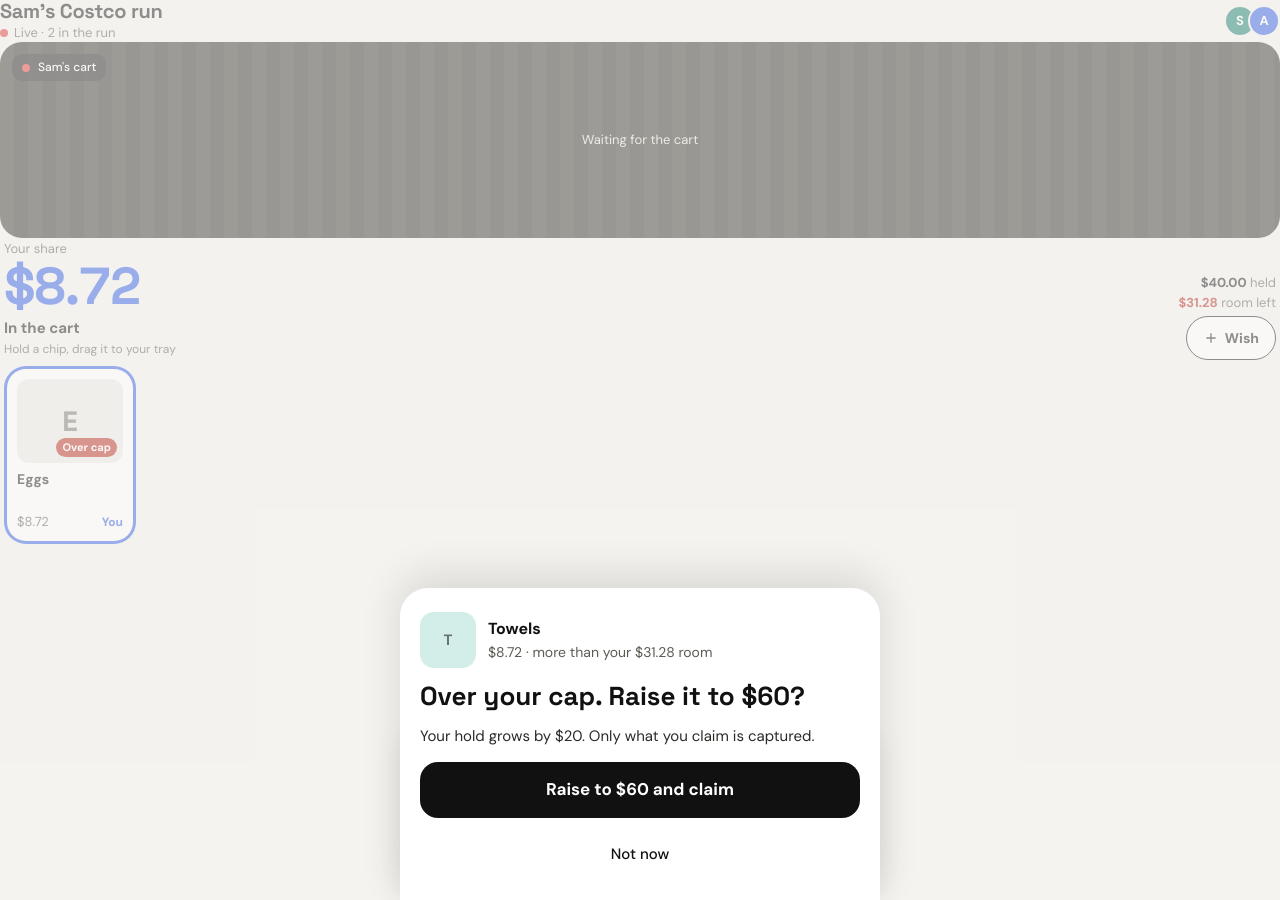
Not now closes the over-cap sheet without raising
Click the button "Not now" at (640, 854), box x1=420 y1=832 x2=860 y2=876
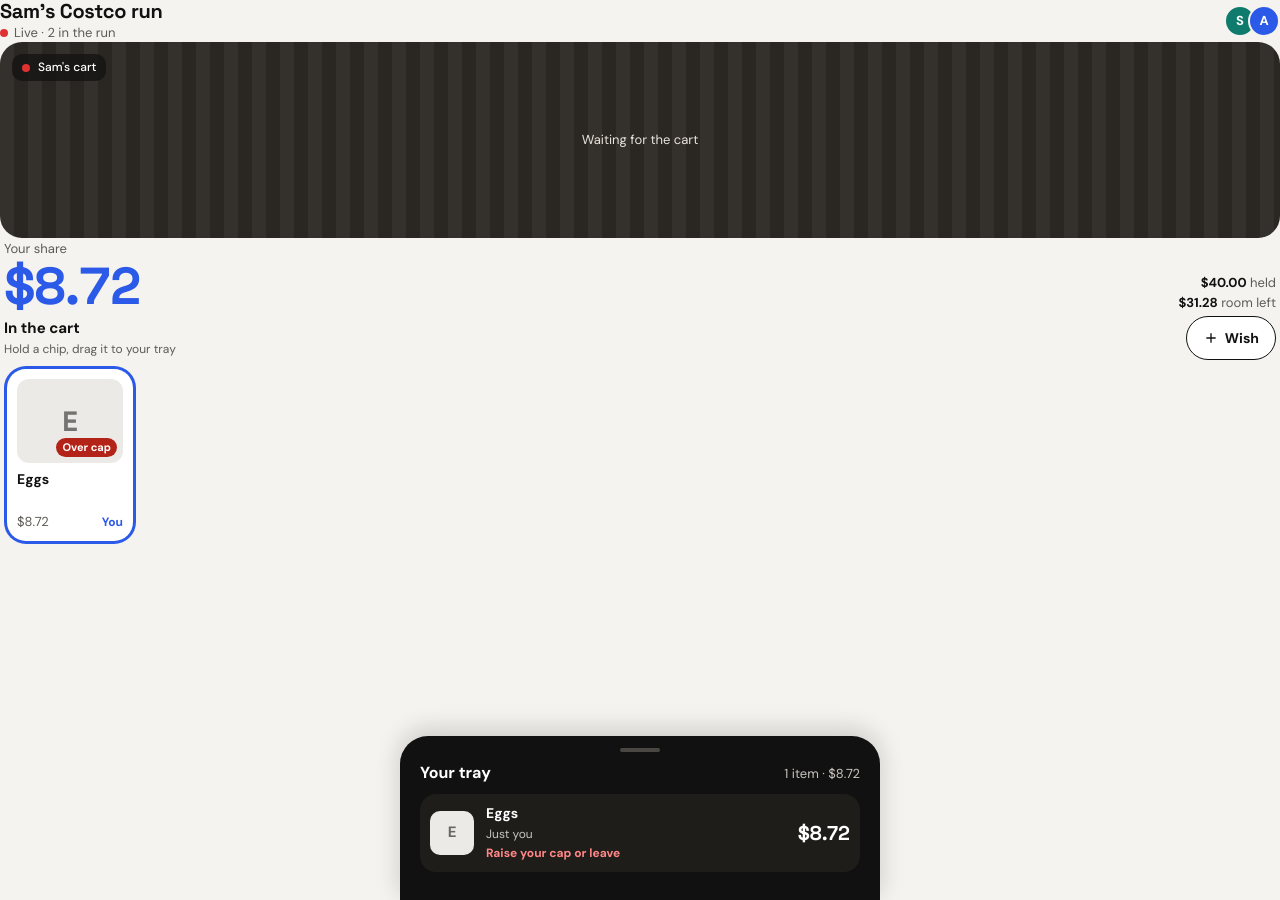
Expected: the dialog is gone
